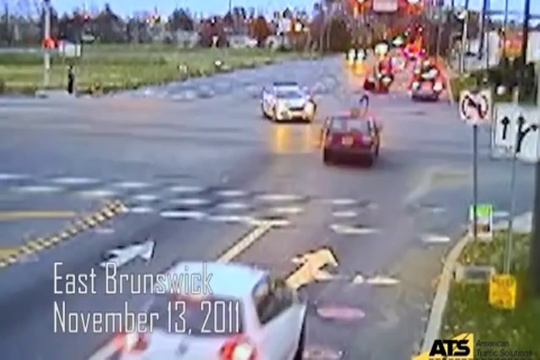car: (107, 262, 321, 360), (264, 73, 319, 129), (327, 110, 381, 165), (411, 69, 442, 99), (362, 66, 394, 93), (342, 45, 371, 63)
